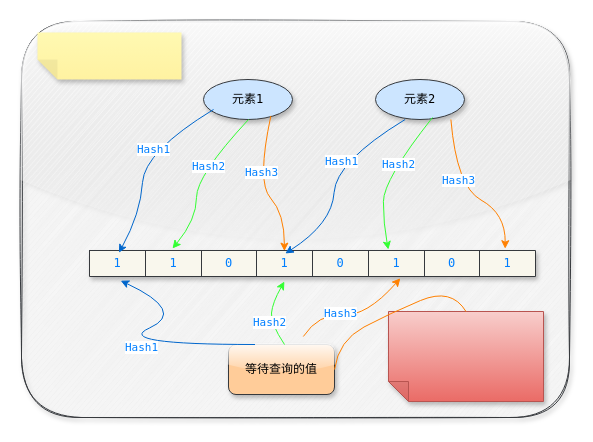
This 593x442 diagram has some shape labels left out. Each missing label, with the centre of its shape:
"假设简陋的Bloom过滤器中只add了这两个值" goes at [110,57].
"尽管这个查询的值并不是元素1或元素2，但hash算法得到的索引在bitmap中都为1，因此误判为在其中" goes at [467,357].
